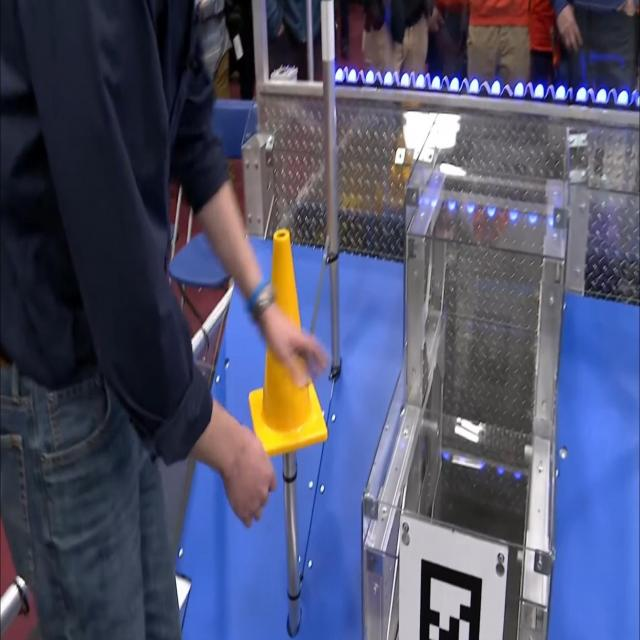frc_cone: (244, 223, 334, 464)
